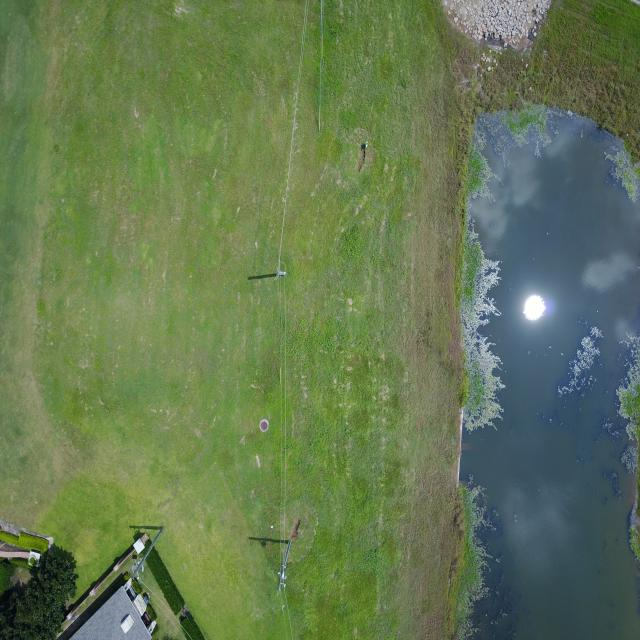fire: (461, 106, 640, 639)
